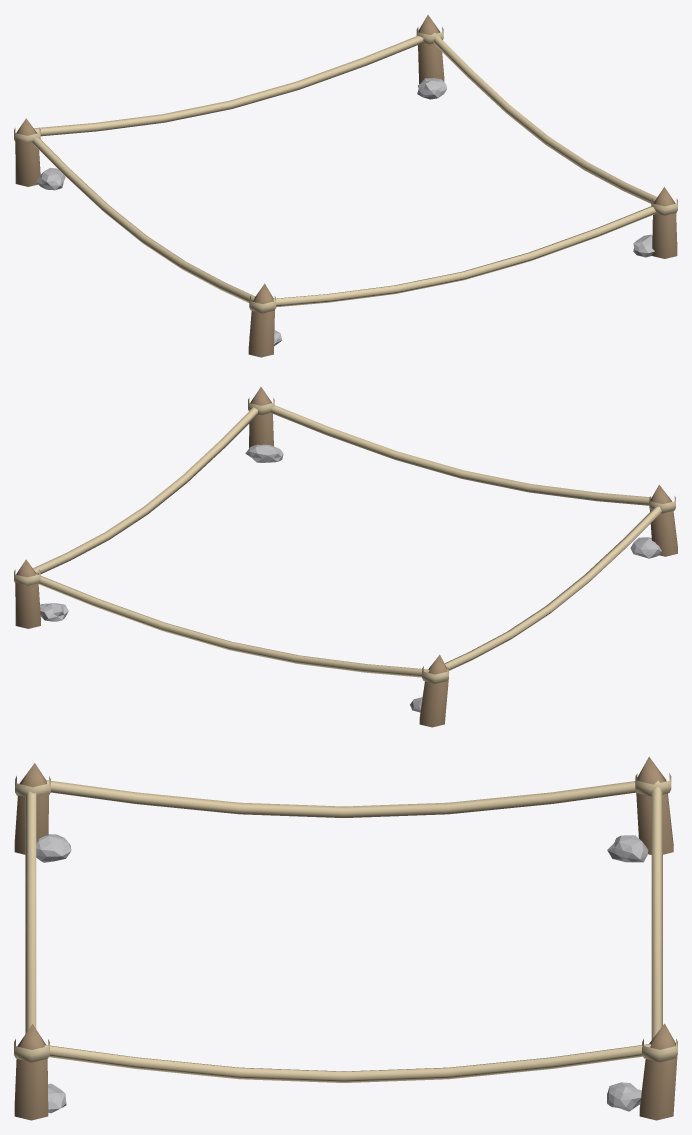
File: village.plot.glb
3 views of the same model, one above another, from view 1: azimuth 30°, elevation 25°; view 2: azimuth 150°, elevation 25°; view 3: azimuth 270°, elevation 25° (orthographic). The views are drawn at different scales.
Visible parts, largest first — view 1: Rope, Wood, Stone; view 2: Rope, Wood, Stone; view 3: Rope, Wood, Stone.
Boxes of the visible parts, left/top/right/bottom form: Rope: left=14, top=27, right=677, bottom=313; Wood: left=15, top=15, right=677, bottom=357; Stone: left=36, top=78, right=654, bottom=346; Rope: left=14, top=398, right=675, bottom=683; Wood: left=15, top=387, right=677, bottom=727; Stone: left=40, top=444, right=661, bottom=712; Rope: left=14, top=773, right=677, bottom=1082; Wood: left=14, top=757, right=677, bottom=1120; Stone: left=36, top=834, right=648, bottom=1113.
Size of the model in its own units: 3.43 by 0.5254 by 3.4.
